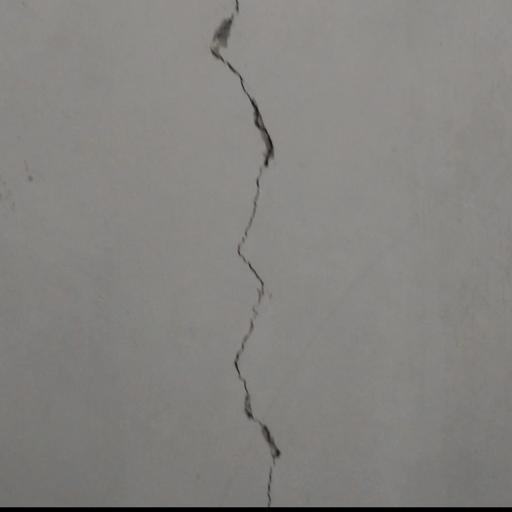major_crack: (204, 0, 301, 509)
